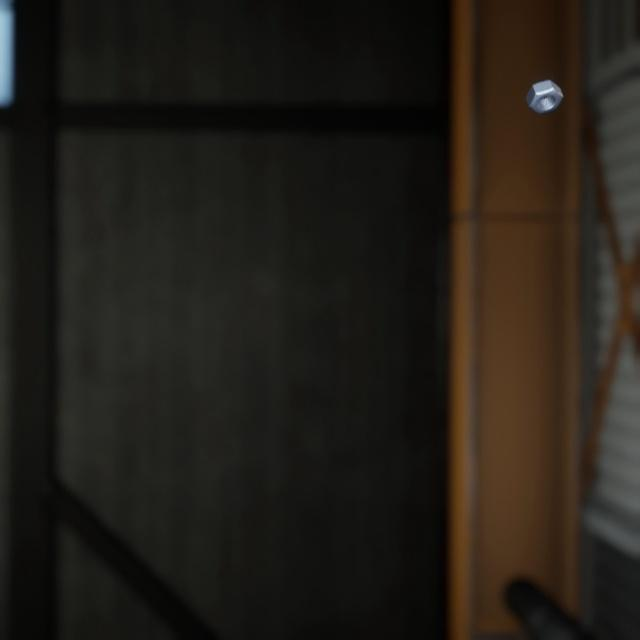nut: (521, 63, 567, 107)
